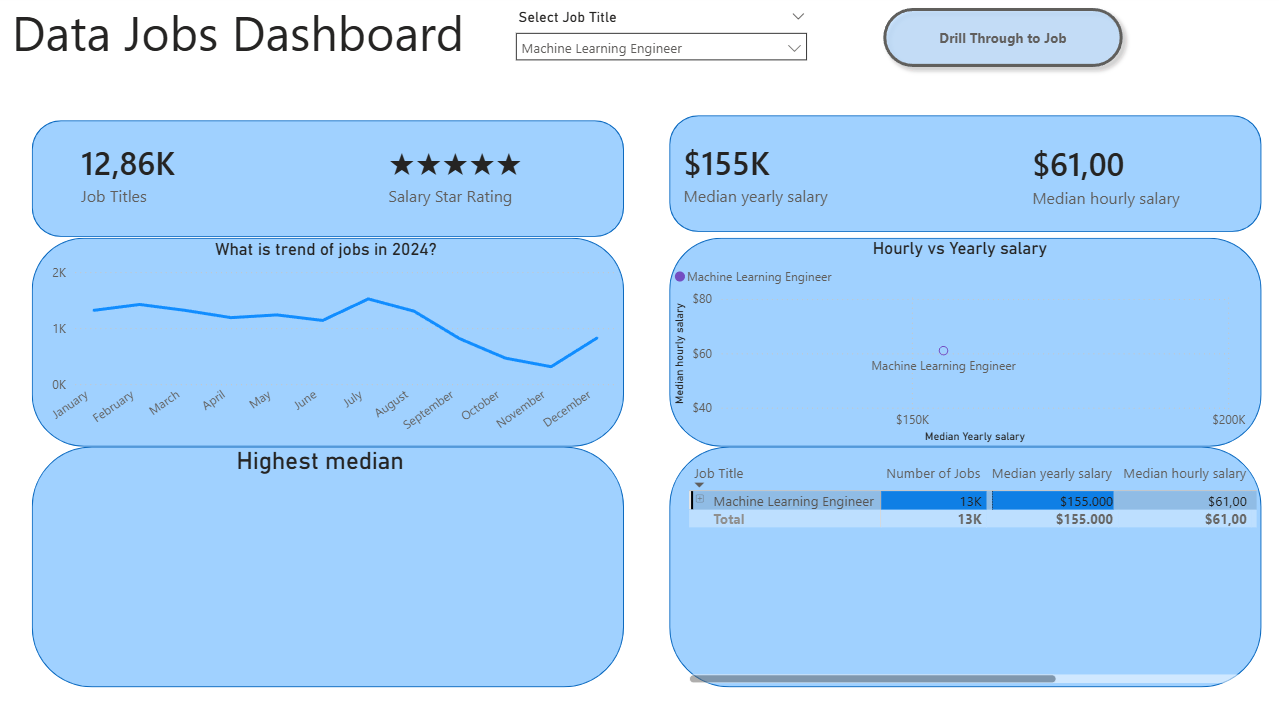

This screenshot's page, from the dashboard's own definition file:
{"tool":"powerbi","page":{"name":"Dashboard","canvas":[1280,720],"ordinal":0},"visuals":[{"type":"group","id":"g1","title":"Background","box":[33,121.1,1224.1,569.8],"z":0},{"type":"shape","box":[33,126,589.4,116.2],"z":0,"group":"g1"},{"type":"textbox","box":[9.2,0,472.9,76.6],"z":1000},{"type":"shape","box":[667.7,121.1,589.4,116.2],"z":1000,"group":"g1"},{"type":"slicer","fields":{"Values":["job_postings_flat.job_title_short"]},"box":[505,9.7,310.3,66.8],"z":2000},{"type":"shape","box":[33,243.4,589.4,207.9],"z":2000,"group":"g1"},{"type":"cardVisual","fields":{"Data":["CountNonNull(job_postings_flat.job_title_short)"]},"box":[53.3,103.7,245.8,150.4],"z":3000},{"type":"shape","box":[33,451.3,589.4,239.7],"z":3000,"group":"g1"},{"type":"cardVisual","fields":{"Data":["job_postings_flat.Median of salary_year_avg star rating"]},"box":[359,103.7,245.8,150.4],"z":4000},{"type":"shape","box":[667.7,243.4,589.4,207.9],"z":4000,"group":"g1"},{"type":"cardVisual","fields":{"Data":["Median(job_postings_flat.salary_year_avg)"]},"box":[652.5,103.7,245.8,150.4],"z":5000},{"type":"shape","box":[667.7,451.3,589.4,239.7],"z":5000,"group":"g1"},{"type":"cardVisual","fields":{"Data":["Median(job_postings_flat.salary_hour_avg)"]},"box":[1000.3,103.9,245.8,150.4],"z":6000},{"type":"lineChart","title":"What is trend of jobs in 2024?","fields":{"Category":["job_postings_flat.job_posted_date.Variation.Date Hierarchy.Year","job_postings_flat.job_posted_date.Variation.Date Hierarchy.Quarter","job_postings_flat.job_posted_date.Variation.Date Hierarchy.Month","job_postings_flat.job_posted_date.Variation.Date Hierarchy.Day"],"Y":["CountNonNull(job_postings_flat.job_title_short)"]},"box":[33.4,243.5,585.7,208.7],"z":7000},{"type":"barChart","title":"Highest median","fields":{"Category":["job_postings_flat.job_title_short"],"Y":["Median(job_postings_flat.salary_year_avg)"]},"box":[36.2,450.8,569,239.3],"z":8000},{"type":"scatterChart","title":"Hourly vs Yearly salary","fields":{"Y":["Median(job_postings_flat.salary_hour_avg)"],"X":["Median(job_postings_flat.salary_year_avg)"],"Series":["job_postings_flat.job_title_short"]},"box":[667.7,242.1,578.4,209.1],"z":9000},{"type":"pivotTable","fields":{"Rows":["job_postings_flat.job_title_short","job_postings_flat.job_posted_date.Variation.Date Hierarchy.Quarter"],"Values":["CountNonNull(job_postings_flat.job_title_short)","Median(job_postings_flat.salary_year_avg)","Median(job_postings_flat.salary_hour_avg)","SparklineData(CountNonNull(job_postings_flat.job_title_short)_[job_postings_flat.job_posted_date.Variation.Date Hierarch"]},"box":[683.1,463.3,574.6,228.2],"z":10000},{"type":"actionButton","box":[871.8,5.3,256.3,76.6],"z":11000}]}

Visuals, with their boxes in screenshot pixels (x1, y1, x2, y2), scaled from the page's 1280x720 canvas onto the 1279x707 screenshot:
"Background" group: x1=33 y1=119 x2=1256 y2=678
shape: x1=33 y1=124 x2=622 y2=238
textbox: x1=9 y1=0 x2=482 y2=75
shape: x1=667 y1=119 x2=1256 y2=233
slicer - job_postings_flat.job_title_short: x1=505 y1=10 x2=815 y2=75
shape: x1=33 y1=239 x2=622 y2=443
cardVisual - CountNonNull(job_postings_flat.job_title_short): x1=53 y1=102 x2=299 y2=250
shape: x1=33 y1=443 x2=622 y2=679
cardVisual - job_postings_flat.Median of salary_year_avg star rating: x1=359 y1=102 x2=604 y2=250
shape: x1=667 y1=239 x2=1256 y2=443
cardVisual - Median(job_postings_flat.salary_year_avg): x1=652 y1=102 x2=898 y2=250
shape: x1=667 y1=443 x2=1256 y2=679
cardVisual - Median(job_postings_flat.salary_hour_avg): x1=1000 y1=102 x2=1245 y2=250
"What is trend of jobs in 2024?" lineChart: x1=33 y1=239 x2=619 y2=444
"Highest median" barChart: x1=36 y1=443 x2=605 y2=678
"Hourly vs Yearly salary" scatterChart: x1=667 y1=238 x2=1245 y2=443
pivotTable - job_postings_flat.job_title_short x job_postings_flat.job_posted_date.Variation.Date Hierarchy.Quarter: x1=683 y1=455 x2=1257 y2=679
actionButton: x1=871 y1=5 x2=1127 y2=80
